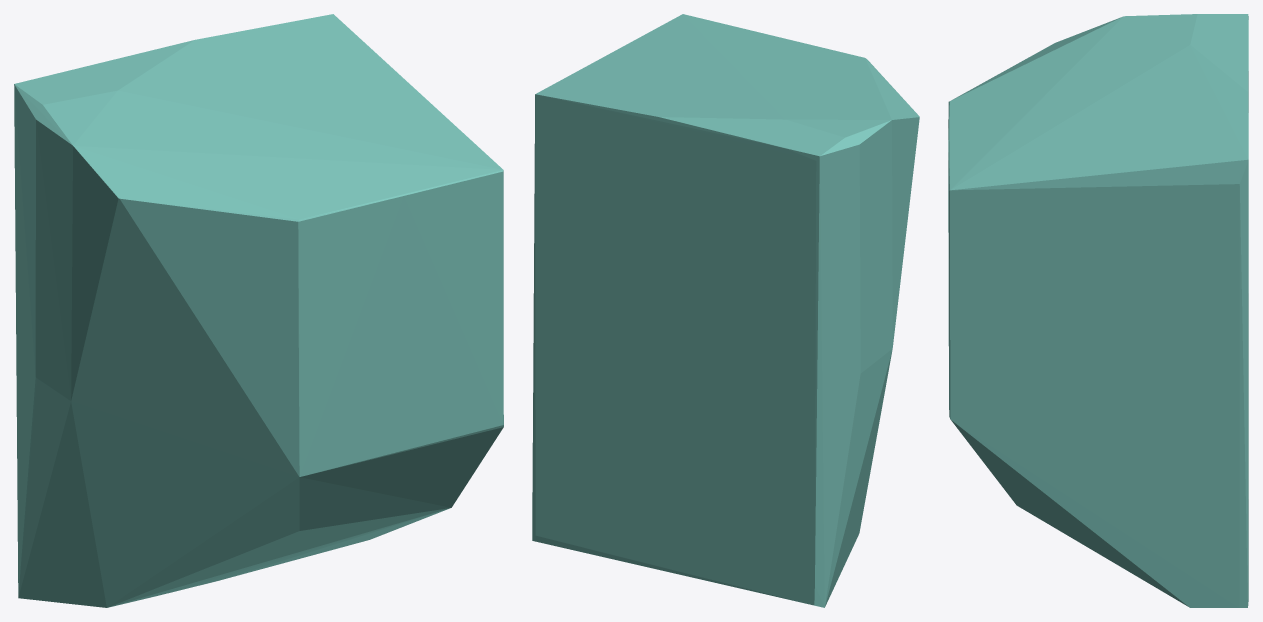
File: pallet_composition_a59.glb
3 renders of one model, left to right at view 1: azimuth 30°, elevation 25°; view 2: azimuth 150°, elevation 25°; view 3: azimuth 270°, elevation 25°, orthographic. The views are drawn at different scales.
Visible parts, largest first — view 1: geometry_0; view 2: geometry_0; view 3: geometry_0.
Boxes of the visible parts, x1,y1,x2,y2 form: geometry_0: (14, 14, 503, 607); geometry_0: (532, 14, 919, 607); geometry_0: (948, 14, 1248, 607).
Size of the model in its own units: 0.3307 by 0.48 by 0.288.
